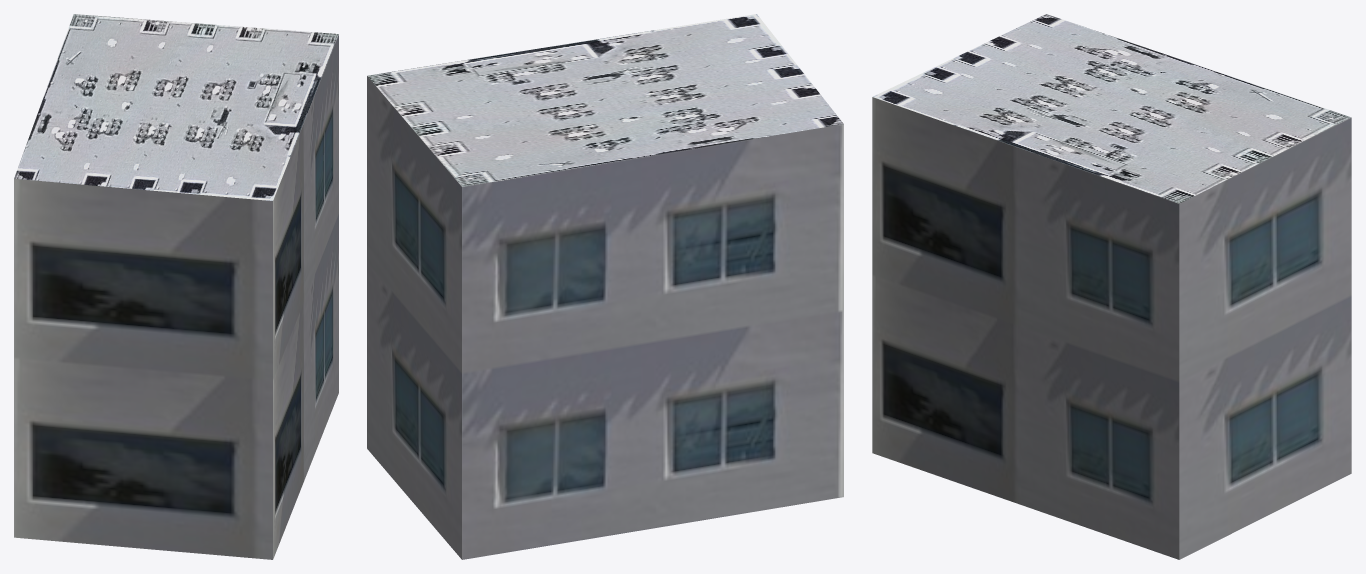
Rendered from ResTex__69.fbx.
3 renders of one model, left to right at view 1: azimuth 30°, elevation 25°; view 2: azimuth 150°, elevation 25°; view 3: azimuth 270°, elevation 25°, orthographic. The views are drawn at different scales.
Parts seen in each view (by area): view 1: CityEngineMaterial_10_m, CityEngineMaterial_8_m; view 2: CityEngineMaterial_10_m, CityEngineMaterial_8_m; view 3: CityEngineMaterial_10_m, CityEngineMaterial_8_m.
Part boxes in pixels (x1,y1,x2,y2): CityEngineMaterial_10_m: [14, 34, 338, 559]; CityEngineMaterial_8_m: [14, 14, 338, 200]; CityEngineMaterial_10_m: [367, 76, 843, 559]; CityEngineMaterial_8_m: [367, 14, 843, 186]; CityEngineMaterial_10_m: [872, 97, 1351, 559]; CityEngineMaterial_8_m: [873, 14, 1351, 203].
Bounding box in the file's own units: 6.86 × 6 × 7.32.
2 materials, 2 textured.
